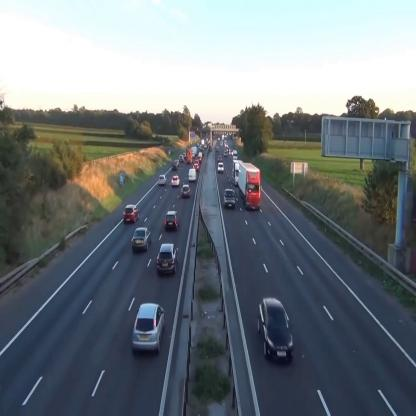car: (258, 297, 294, 363), (132, 303, 165, 353), (157, 244, 179, 276), (131, 228, 152, 250), (165, 212, 180, 231), (124, 205, 139, 223), (224, 190, 235, 209), (181, 185, 190, 196), (158, 175, 166, 185), (171, 176, 179, 186), (189, 170, 196, 180), (218, 162, 224, 172), (172, 162, 176, 171)
lorry: (238, 161, 262, 211)
